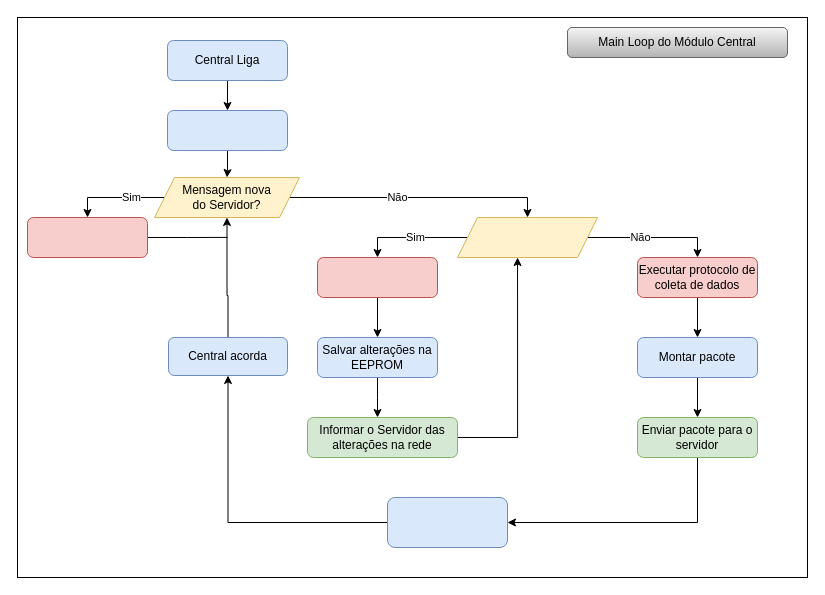
This 825x595 diagram has some shape labels left out. The centre of each missing label's shape, as x and y in pixels:
Central entra em DeepSleep: point 447,522
Executar comando: point 87,237
Executar protocolo de entrada na rede: point 377,277
Lê as configurações da rede na EEPROM: point 227,130
Sensor solicitando entrada na rede?: point 527,237
